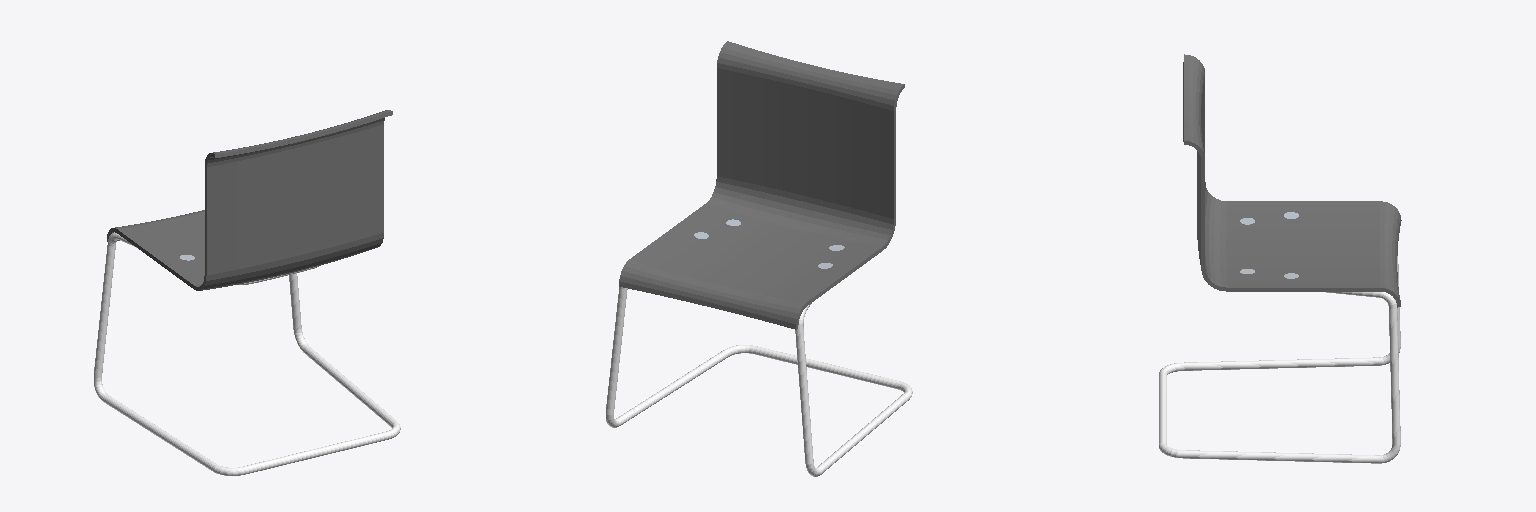
3 renders of one model, left to right at view 1: azimuth 30°, elevation 25°; view 2: azimuth 150°, elevation 25°; view 3: azimuth 270°, elevation 25°, orthographic.
Parts seen in each view (by area): view 1: Mesh2 Silla_TOBIAS_Ikea1 Model, Mesh1 Group1 Silla_TOBIAS_Ikea1 Model; view 2: Mesh2 Silla_TOBIAS_Ikea1 Model, Mesh1 Group1 Silla_TOBIAS_Ikea1 Model; view 3: Mesh2 Silla_TOBIAS_Ikea1 Model, Mesh1 Group1 Silla_TOBIAS_Ikea1 Model.
Part boxes in pixels (bbox=[...]): Mesh2 Silla_TOBIAS_Ikea1 Model: bbox=[107, 110, 392, 290]; Mesh1 Group1 Silla_TOBIAS_Ikea1 Model: bbox=[94, 232, 400, 475]; Mesh2 Silla_TOBIAS_Ikea1 Model: bbox=[619, 41, 904, 329]; Mesh1 Group1 Silla_TOBIAS_Ikea1 Model: bbox=[606, 287, 912, 476]; Mesh2 Silla_TOBIAS_Ikea1 Model: bbox=[1183, 54, 1401, 307]; Mesh1 Group1 Silla_TOBIAS_Ikea1 Model: bbox=[1159, 256, 1400, 463].
Size of the model in its own units: 0.5113 by 0.7421 by 0.516.